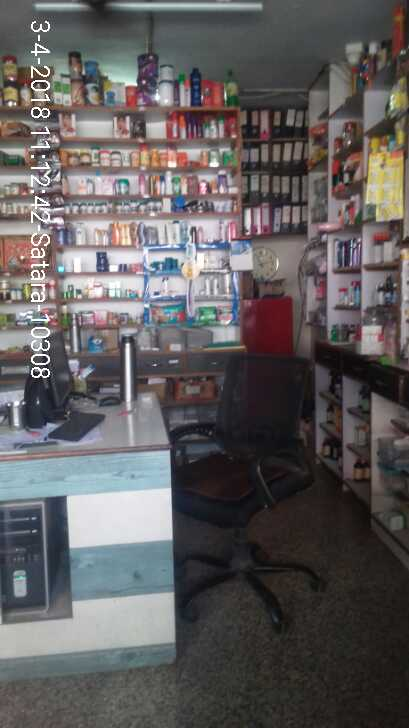vicks: (150, 253, 184, 274)
